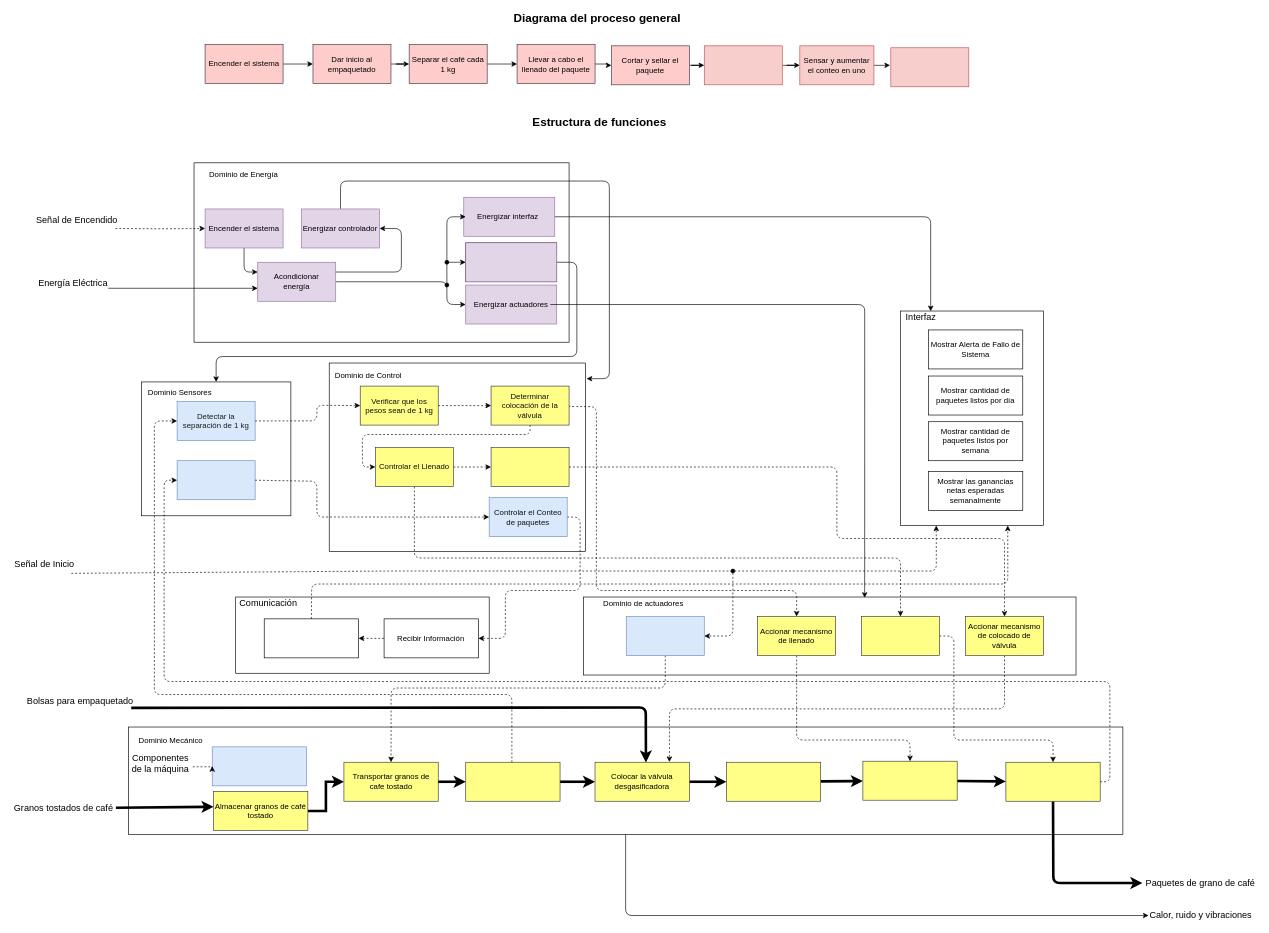
The diagram is 1269 pixels wide and 933 high, and some of its shapes have lost their labels. Each missing label, with the centre of its shape:
Accionar mecanismo de movimiento: pixel 665 636
Accionar mecanismo de sellado: pixel 900 636
Colocar la válvula para desgasificar: pixel 743 65
Controlar el Sellado: pixel 529 467
Detectar nuevo producto terminado: pixel 215 480
Energizar sensores: pixel 511 262
Enviar Información: pixel 311 638
Formar la bolsa: pixel 773 781
Llenar recipiente de bolsas: pixel 909 780
Sellar y cortar bolsas: pixel 1052 781
Separar cada 1 kg: pixel 512 781
Soportar componentes (estructura): pixel 259 766
Trasladar ya sea para almanecenamiento o distribución.: pixel 929 67
